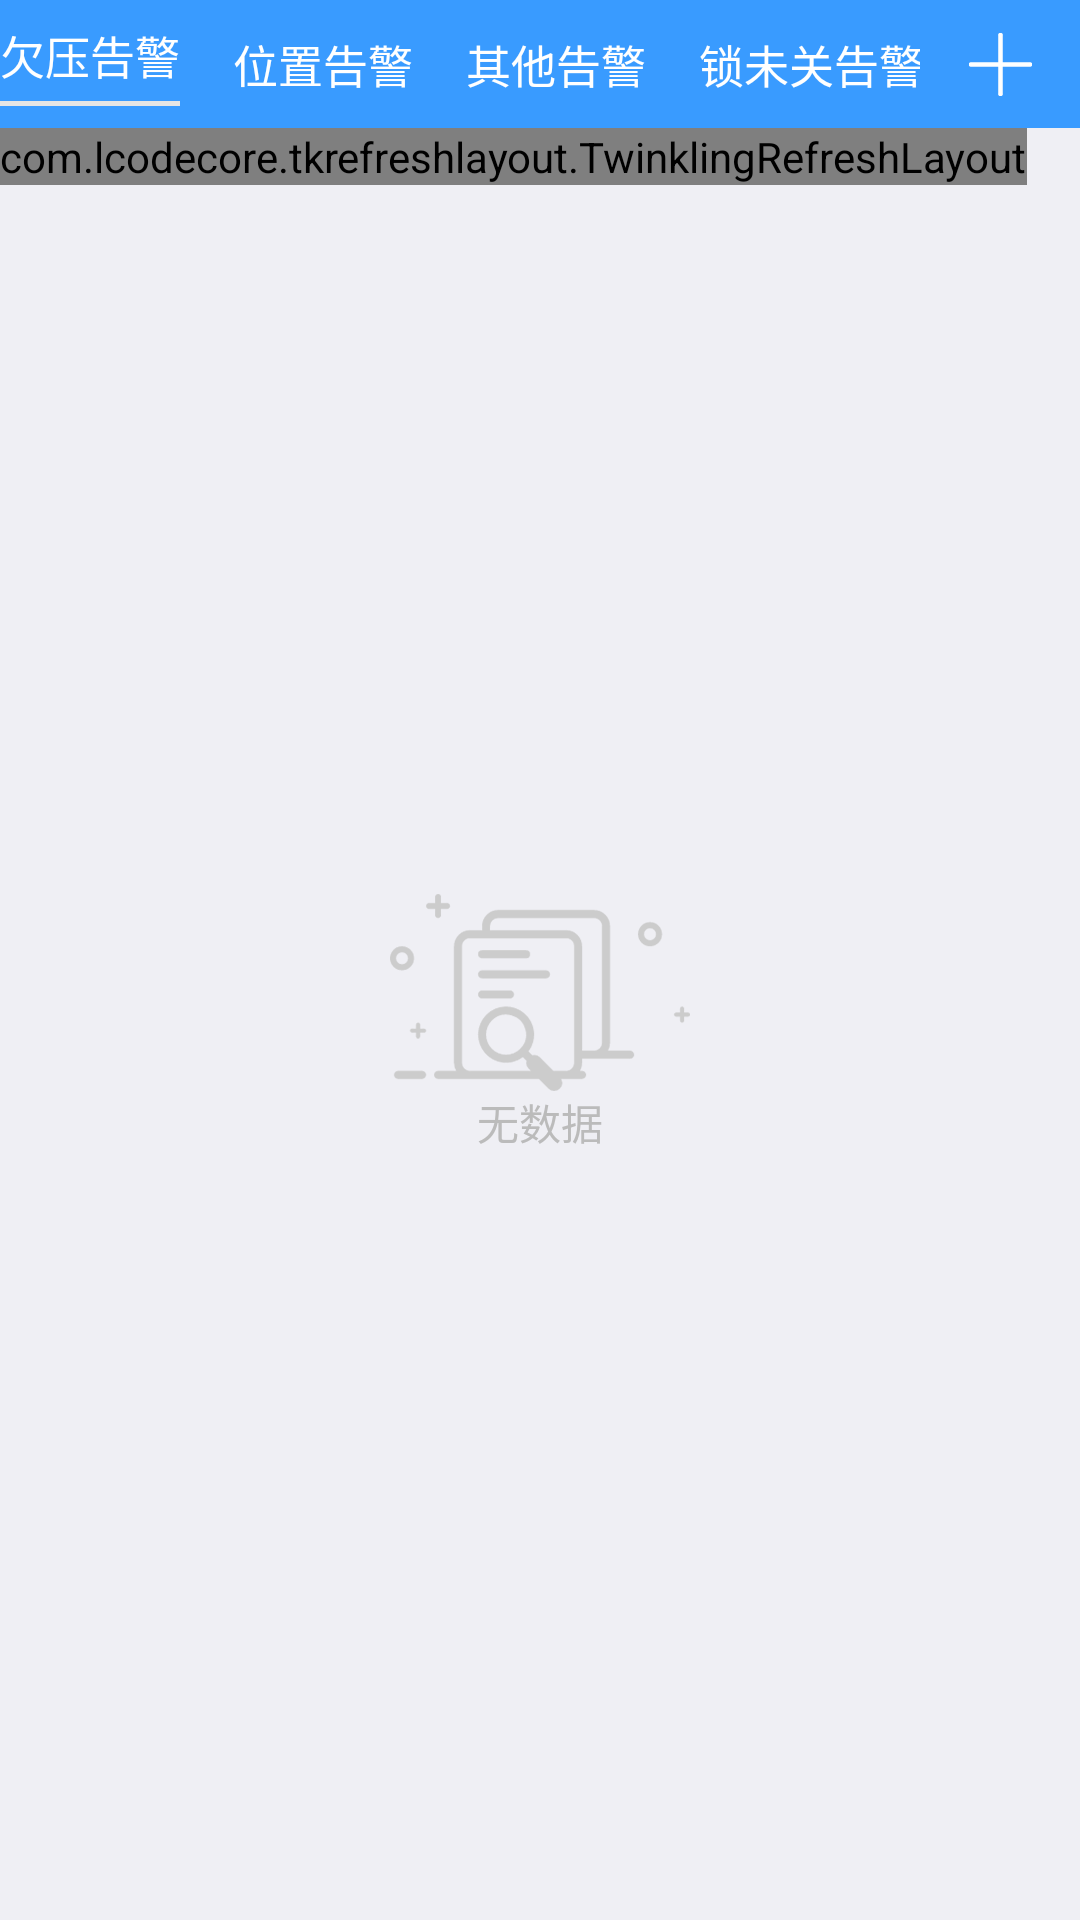

Where icons sit on this 1080w x 1920h app screen, as (x1, y1, x2, y2):
add warning: (969, 33, 1032, 96)
